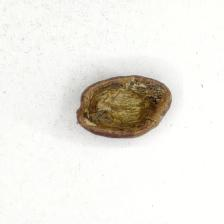NG: (82, 77, 162, 134)
